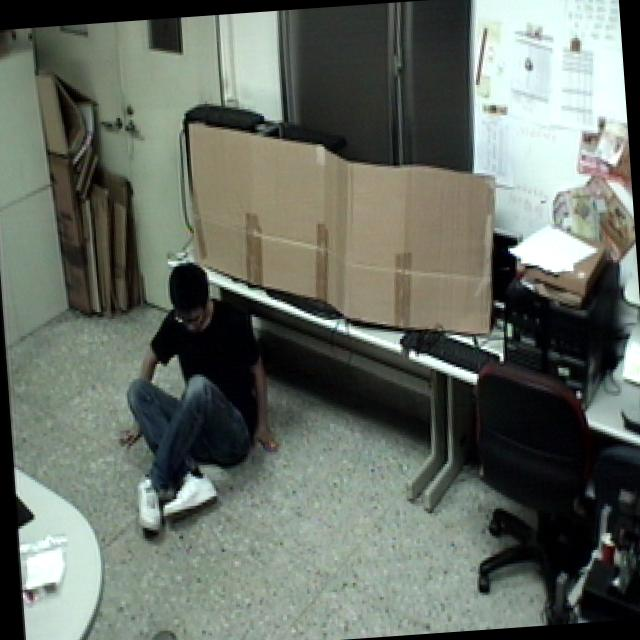sit: (99, 250, 288, 555)
